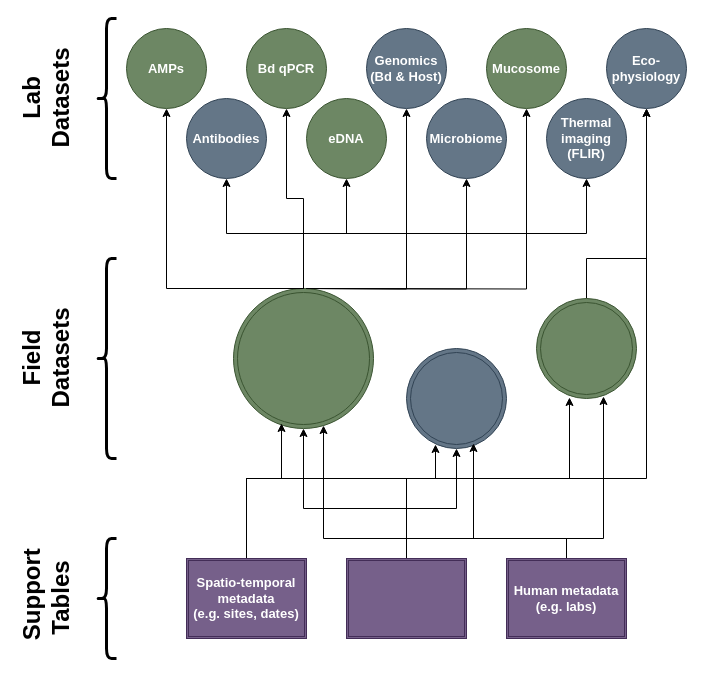
Image size: 704x677. Some labels were removed from this diagram. Each missing label, with the centre of its shape:
"Acoustic Timeseries" goes at pixel 456 398.
"Field Surveys" goes at pixel 303 358.
"Microclimate Timeseries" goes at pixel 586 348.
"Taxonomic metadata" goes at pixel 406 598.
